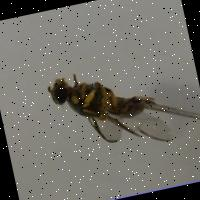Oriental-fruit-fly: (29, 30, 188, 166)
